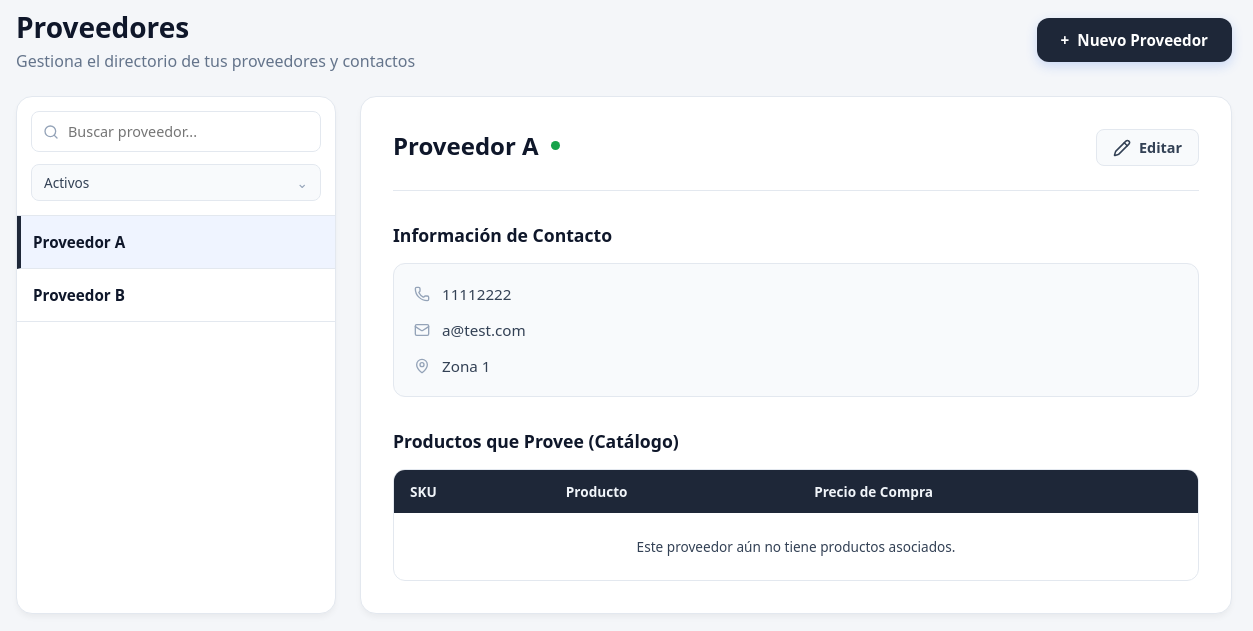
Flujo comercial completo: Proveedores › consulta: seleccionar un proveedor de la lista muestra sus datos de contacto
The width and height of the screenshot is (1253, 631).
Click the list item with class "supplier-item" showing "Proveedor B": (176, 296) [17,269,335,322]
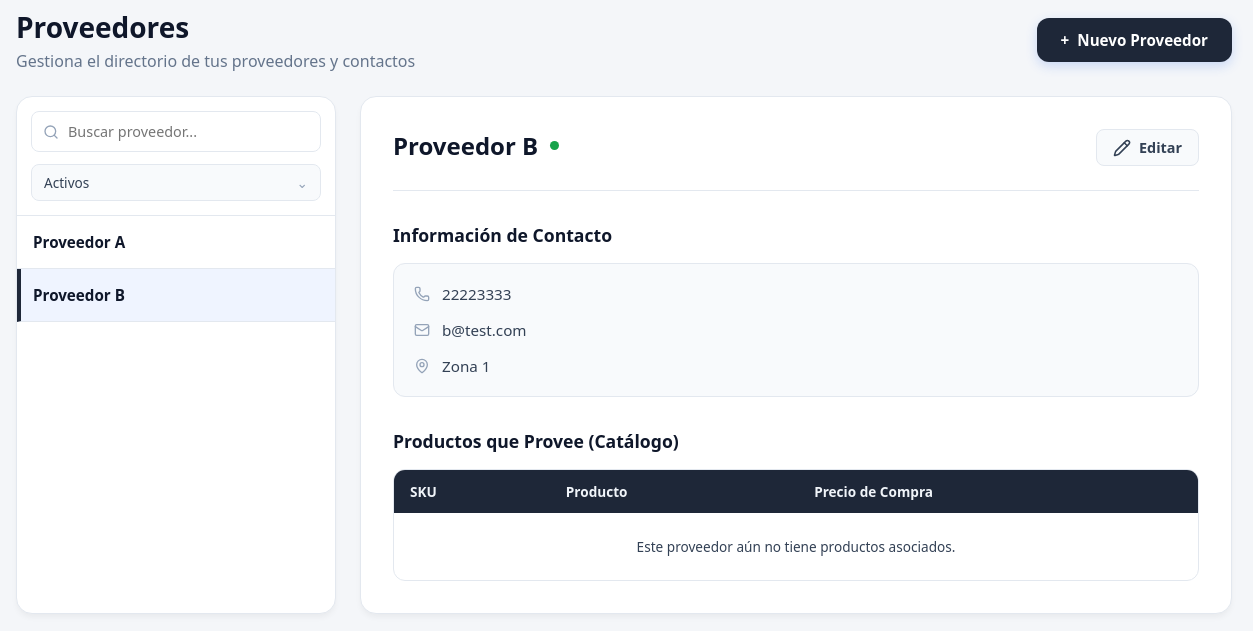
Check: the heading with class "detail-name" reads "Proveedor B", box [393,129,538,162]
Check: the text "22223333" is shown, box [442,284,512,304]
Check: the text "b@test.com" is shown, box [442,320,527,340]
